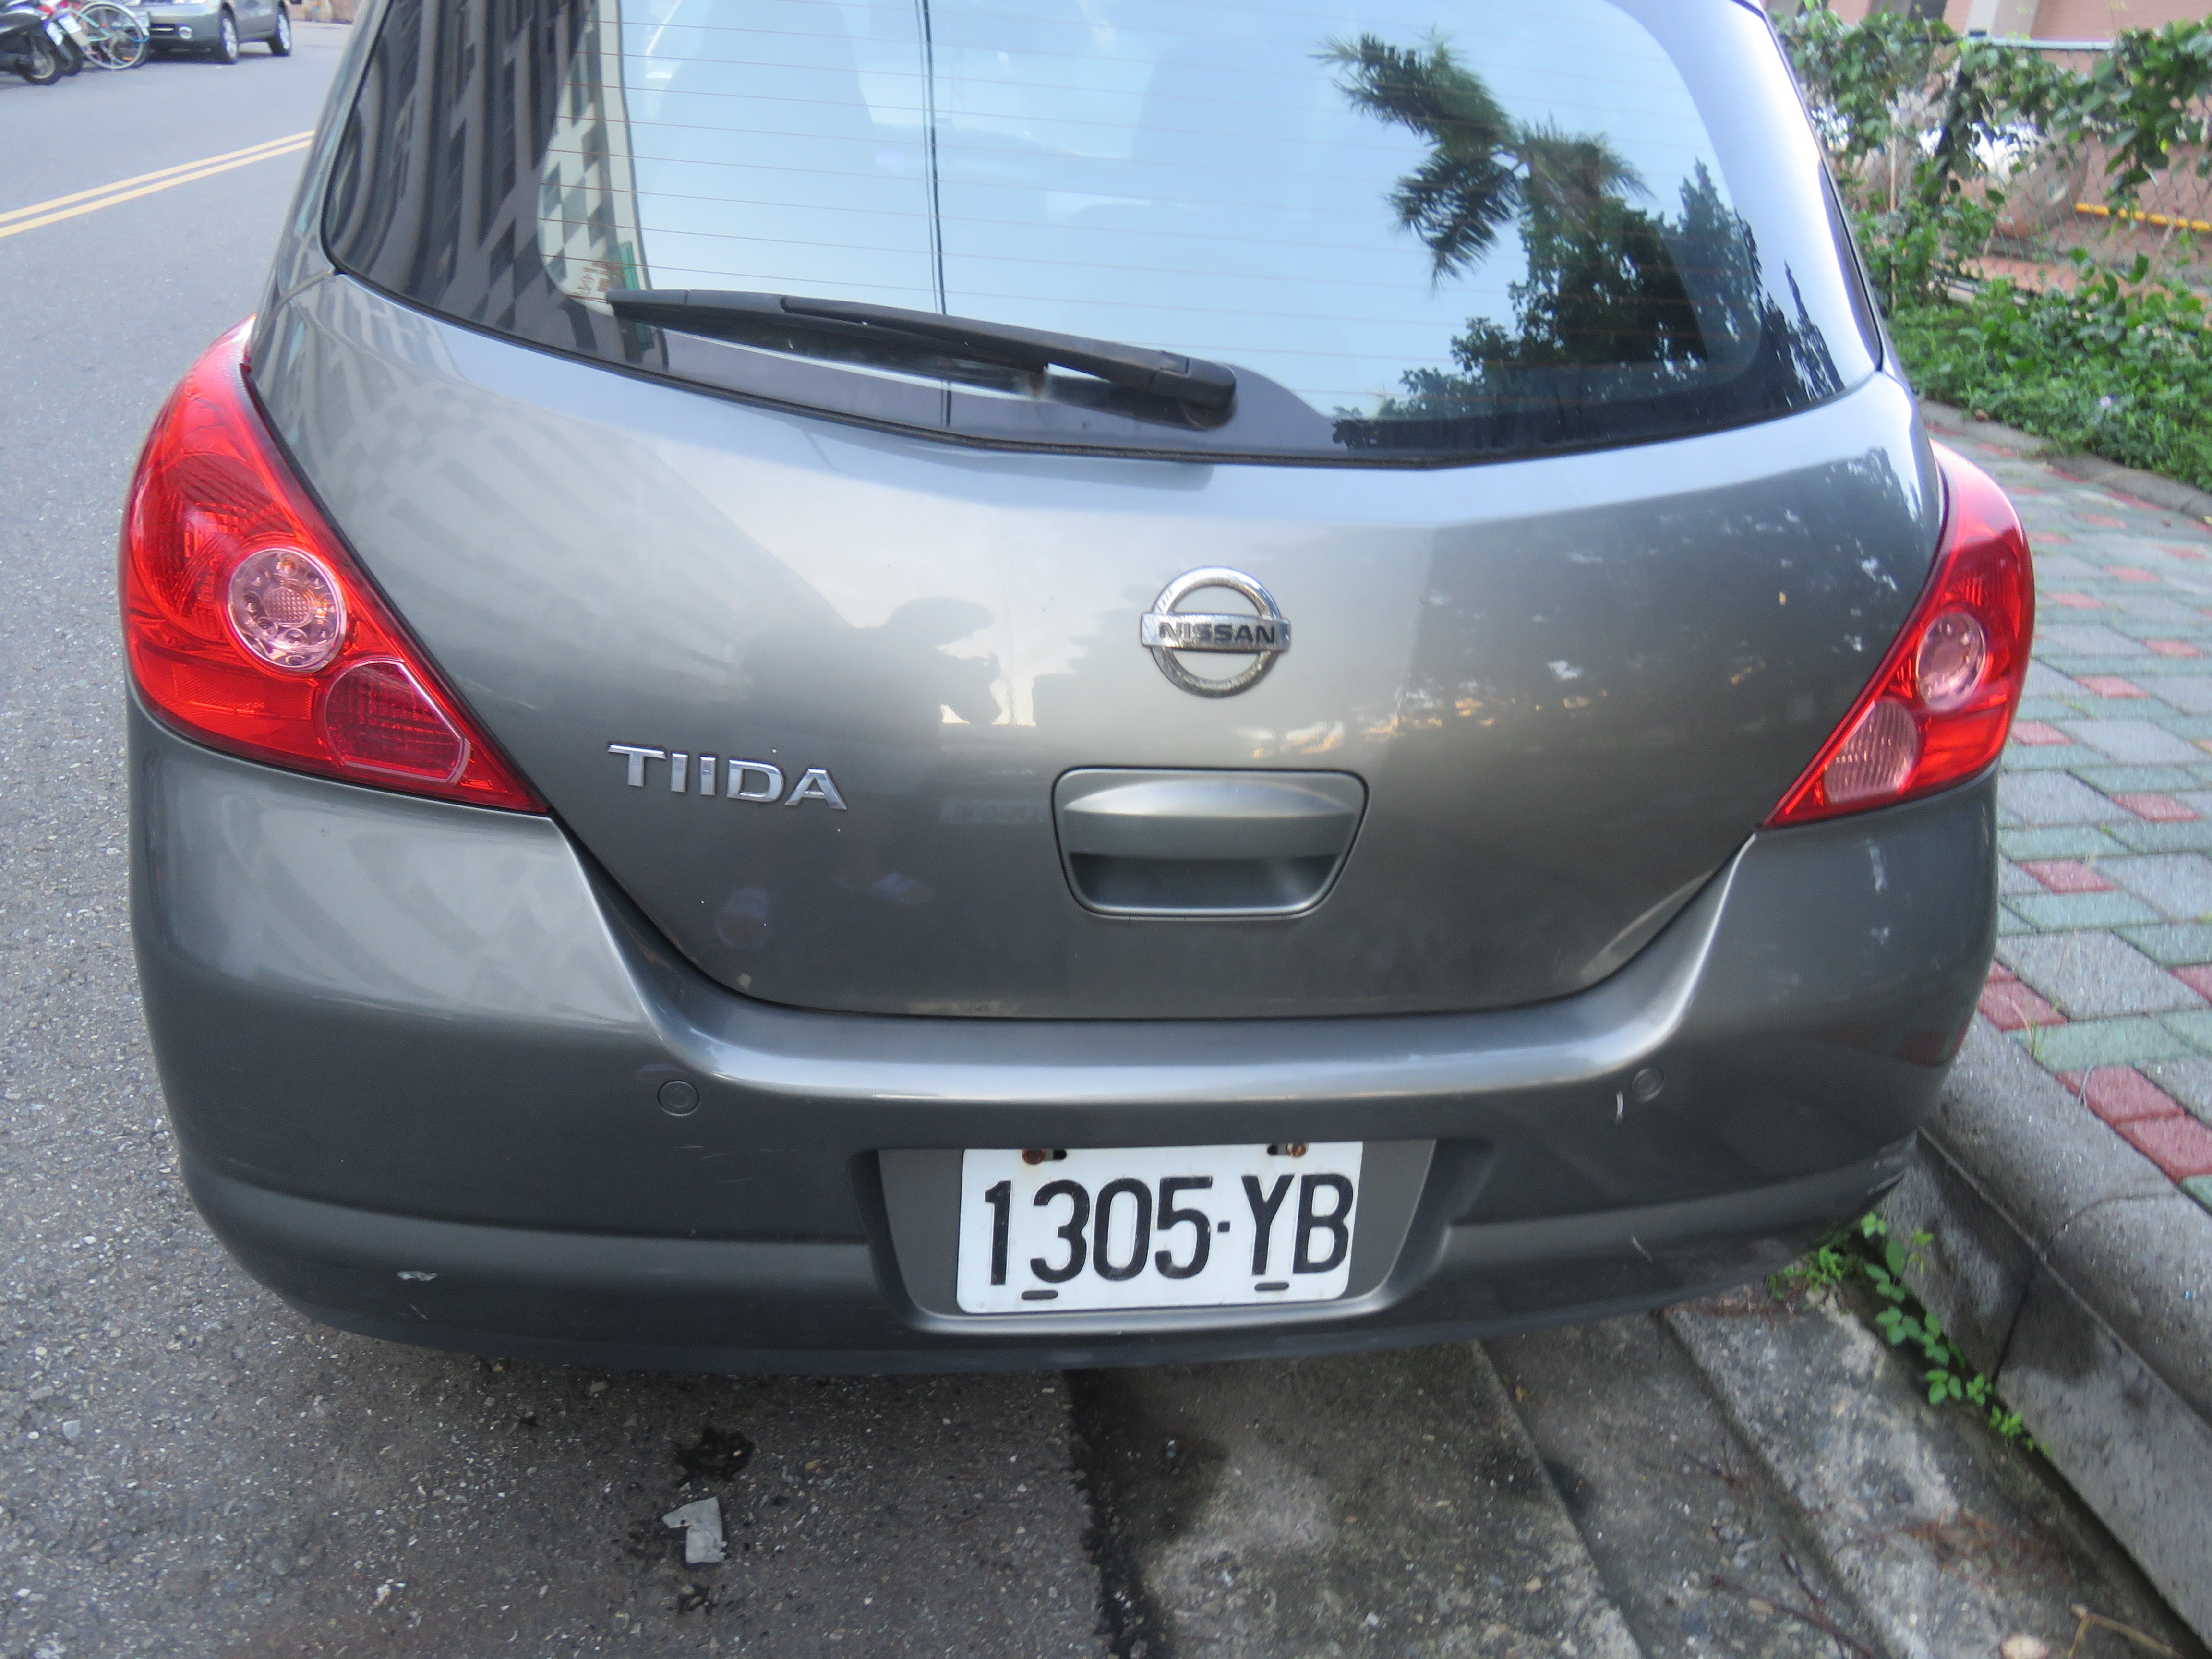car: (106, 0, 2038, 1378)
car_card: (939, 1112, 1386, 1330)
